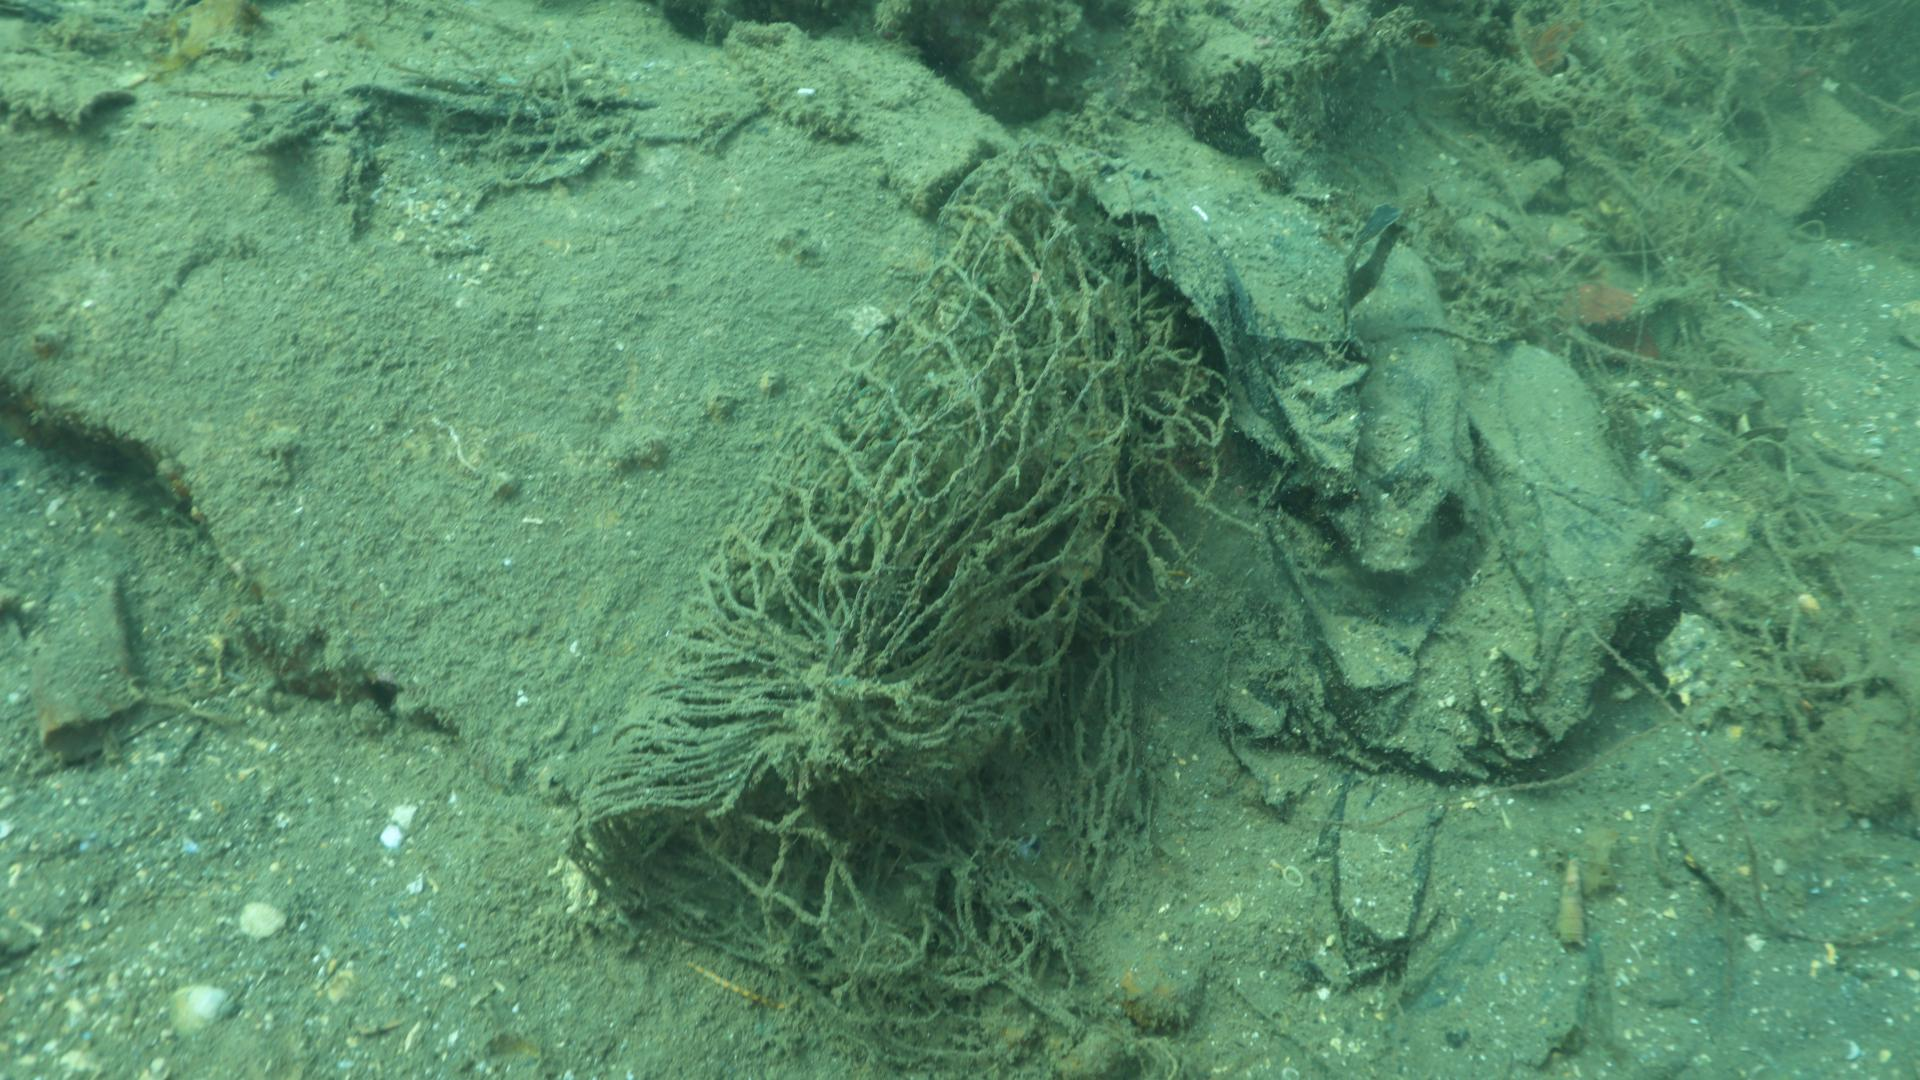fish net: (564, 137, 1134, 968)
